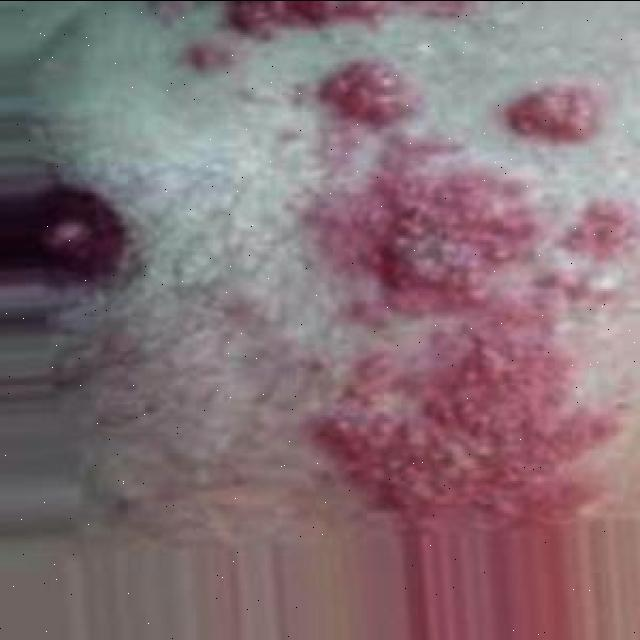Shingles: (322, 59, 631, 516), (224, 0, 408, 39), (508, 83, 600, 143)
